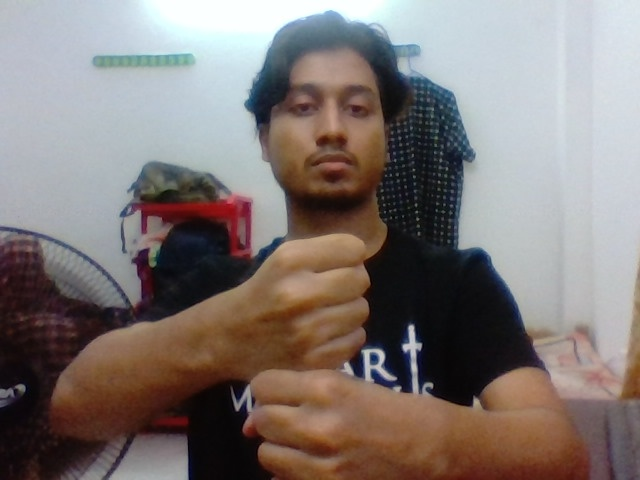G: (232, 223, 413, 480)
